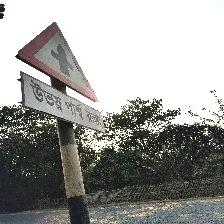Crossroad: (9, 16, 115, 137)
